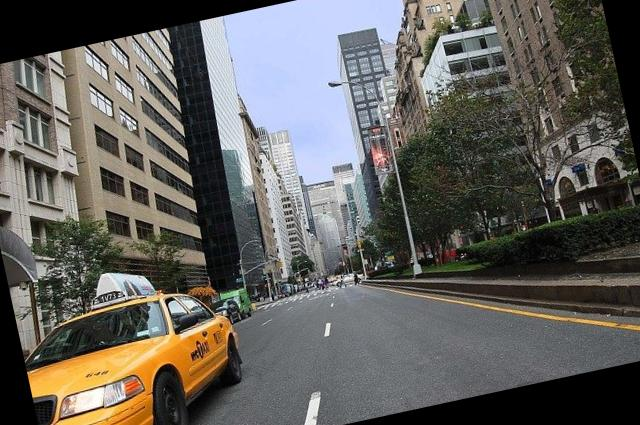taxi: (1, 288, 245, 425)
